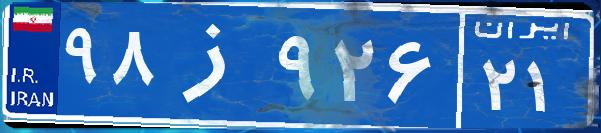1: (525, 38, 570, 115)
2: (330, 28, 385, 110), (475, 38, 525, 113)
6: (385, 28, 445, 110)
8: (110, 28, 158, 105)
9: (273, 28, 330, 110), (57, 26, 110, 107)
ز: (158, 15, 273, 115)
